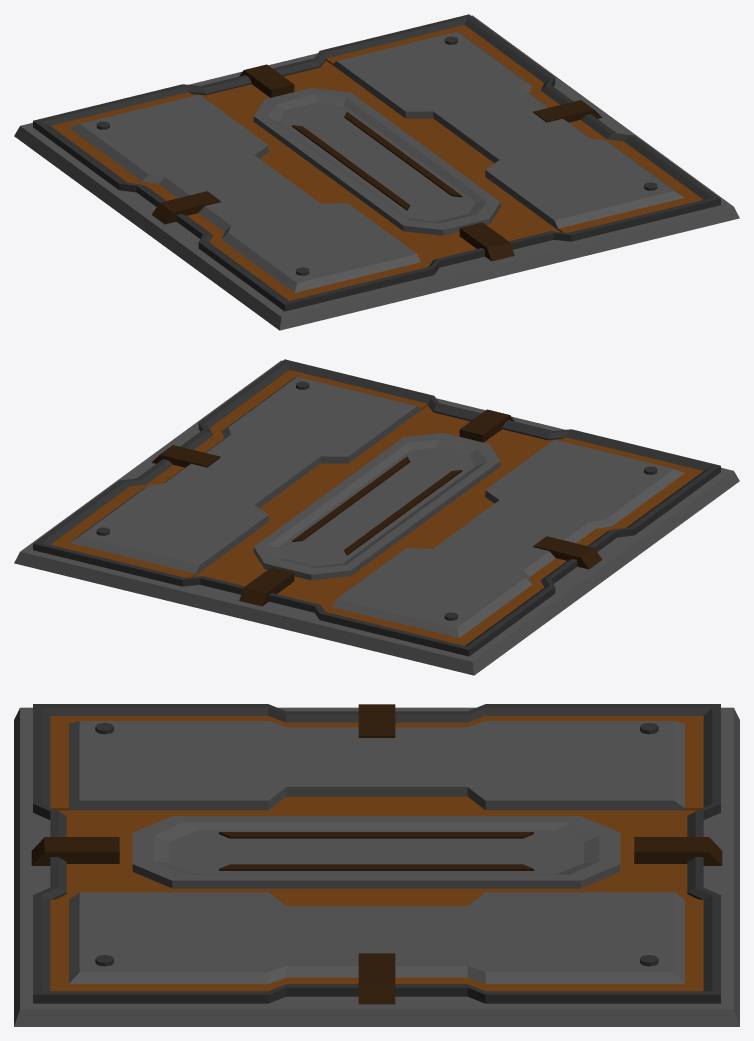
The model's file is FloorTile_Basic2.obj.
3 views of the same model, one above another, from view 1: azimuth 30°, elevation 25°; view 2: azimuth 150°, elevation 25°; view 3: azimuth 270°, elevation 25° (orthographic). The views are drawn at different scales.
Parts seen in each view (by area): view 1: FloorTile_Basic2_Plane.018; view 2: FloorTile_Basic2_Plane.018; view 3: FloorTile_Basic2_Plane.018.
Boxes of the visible parts, x1=… form: FloorTile_Basic2_Plane.018: x1=14, y1=14, x2=739, y2=330; FloorTile_Basic2_Plane.018: x1=14, y1=359, x2=739, y2=675; FloorTile_Basic2_Plane.018: x1=14, y1=704, x2=739, y2=1026.
Bounding box in the file's own units: 2 × 0.0934 × 2.
